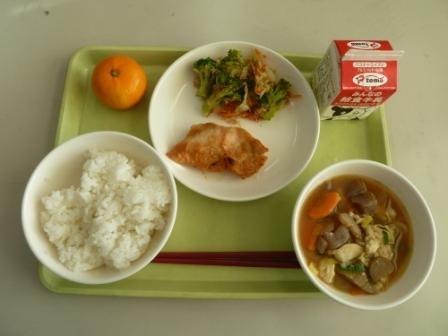Citrus: (80, 56, 148, 108)
Meat: (169, 117, 277, 176)
Milk: (316, 28, 409, 117)
Rice: (39, 140, 169, 269)
Salad: (189, 47, 295, 117)
Soups: (286, 167, 435, 307)
